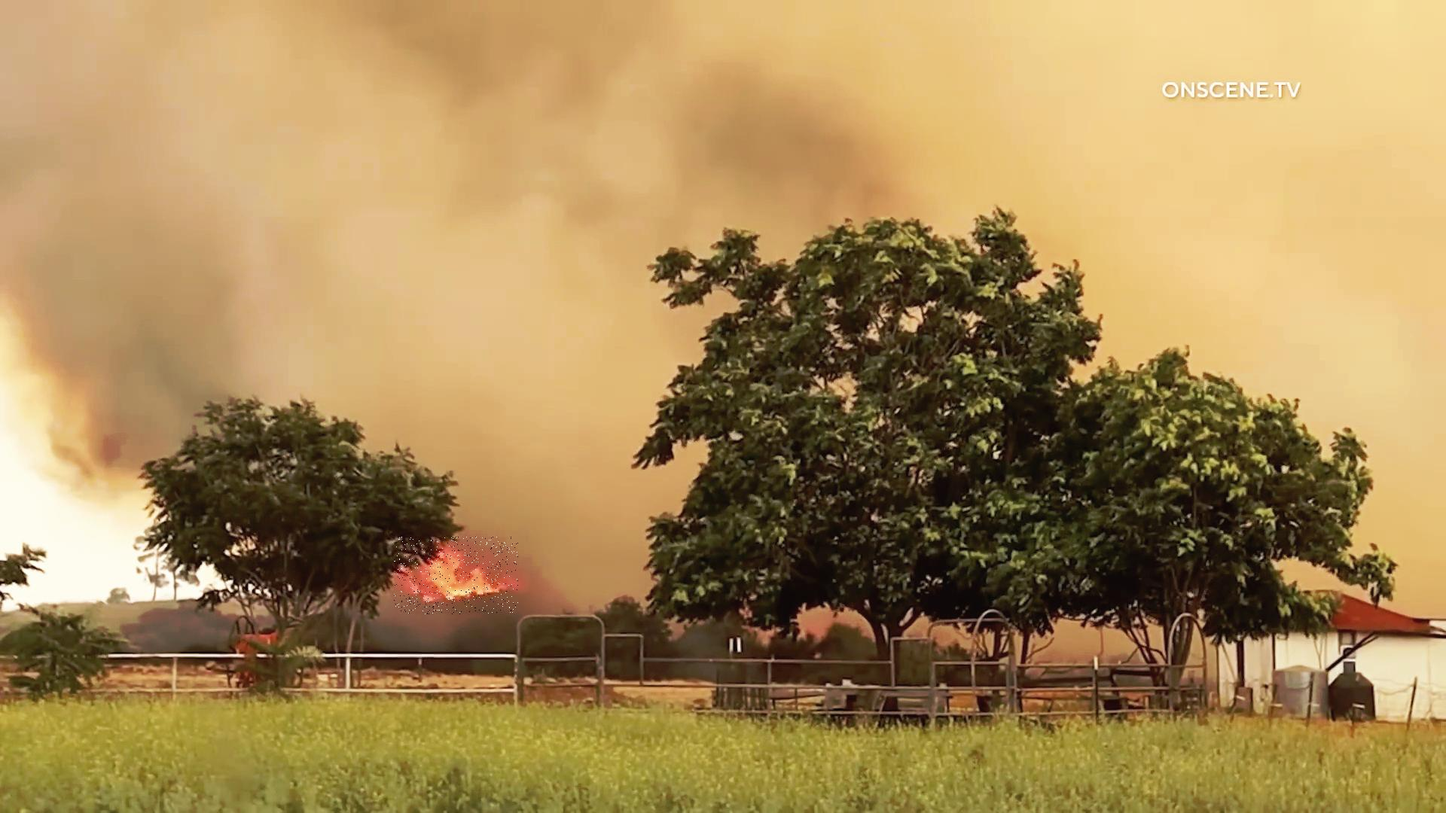fire: (394, 537, 518, 614)
